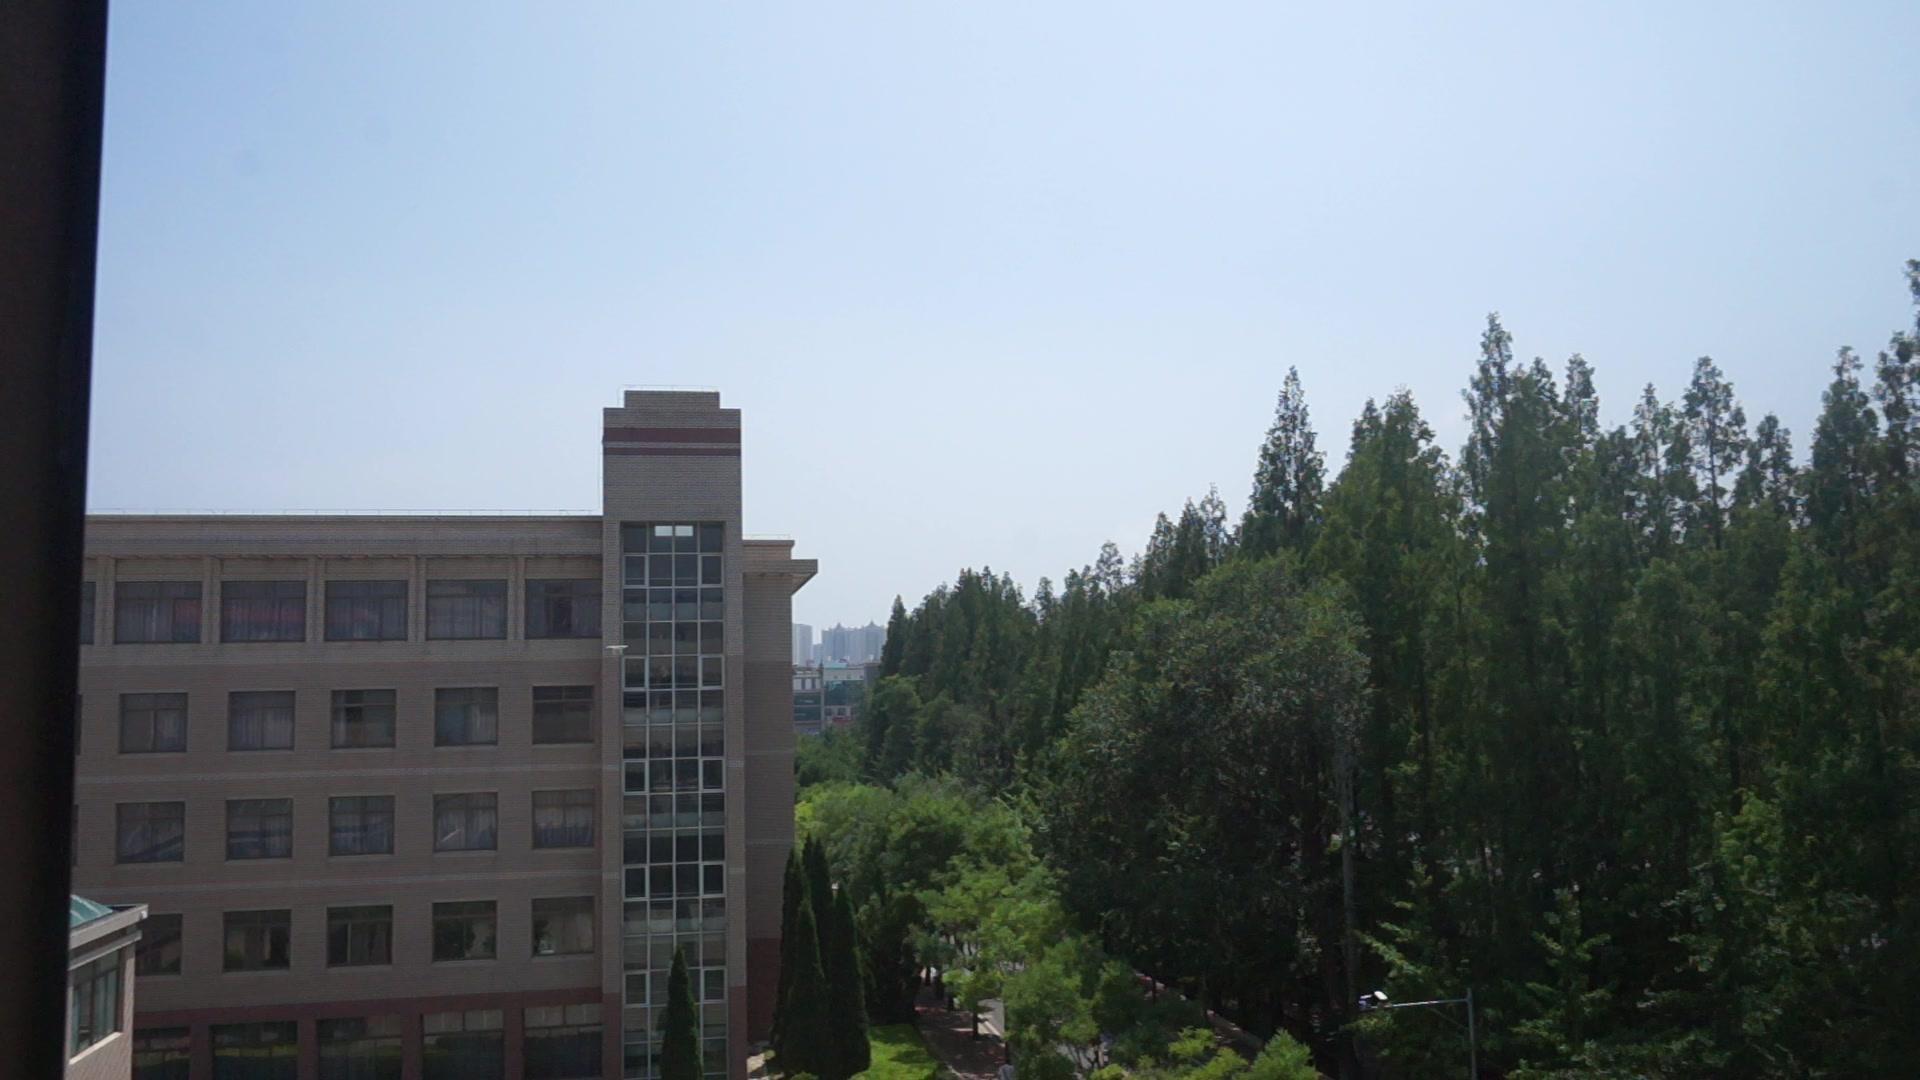UAV: (607, 646, 630, 655)
